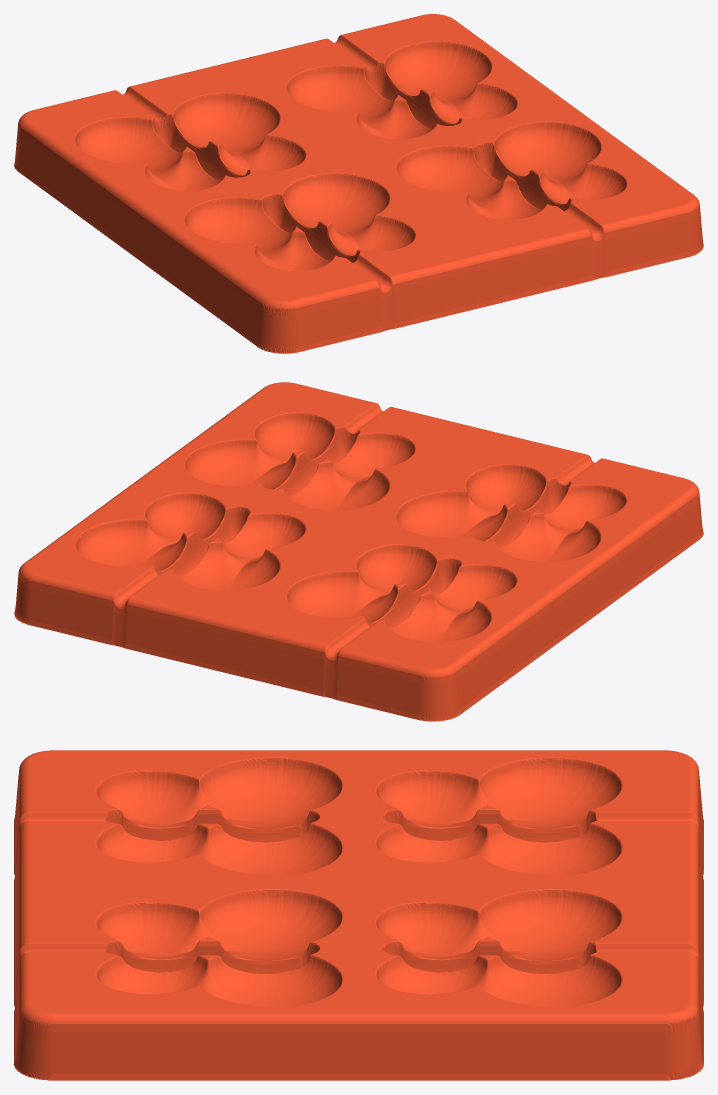
Rendered from mold.glb.
3 views of the same model, one above another, from view 1: azimuth 30°, elevation 25°; view 2: azimuth 150°, elevation 25°; view 3: azimuth 270°, elevation 25° (orthographic). The views are drawn at different scales.
Visible parts, largest first — view 1: geometry_0; view 2: geometry_0; view 3: geometry_0.
Boxes of the visible parts, box(x1,y1,x2,y2) form: geometry_0: box(14, 14, 703, 353); geometry_0: box(14, 382, 703, 721); geometry_0: box(14, 750, 703, 1080).
Size of the model in its own units: 0.1497 by 0.0155 by 0.1588.
